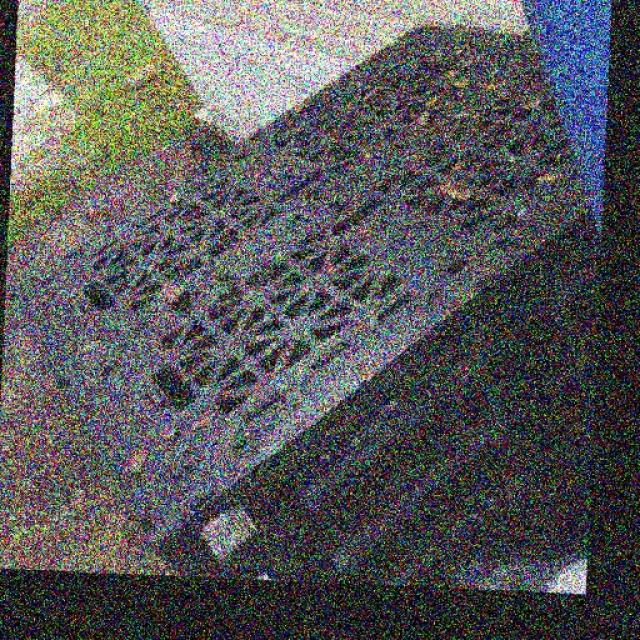igps: (3, 13, 607, 600)
